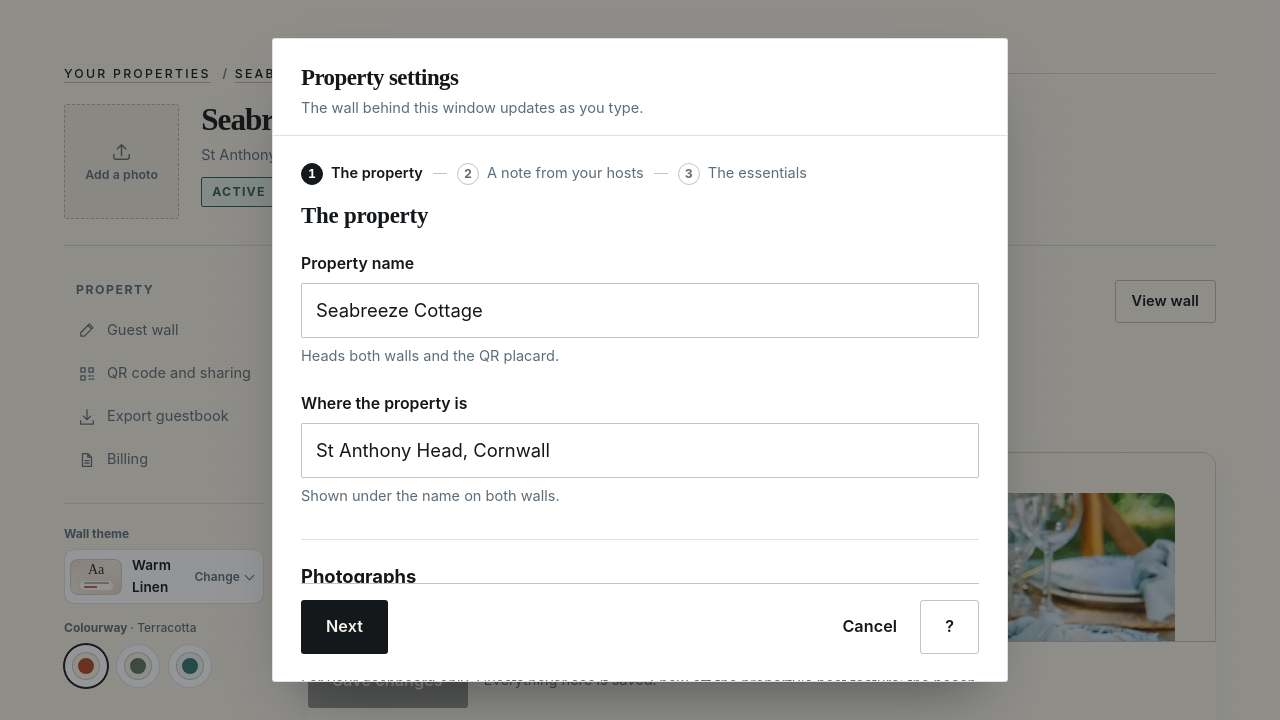
Scenario: the settings of one property › carries everything the wall carries, not just what the property is
Expected: the field labelled "Property name" holds "Seabreeze Cottage", [301,283,979,338]
Click the button "Next" at (344, 628), box [301,601,388,655]
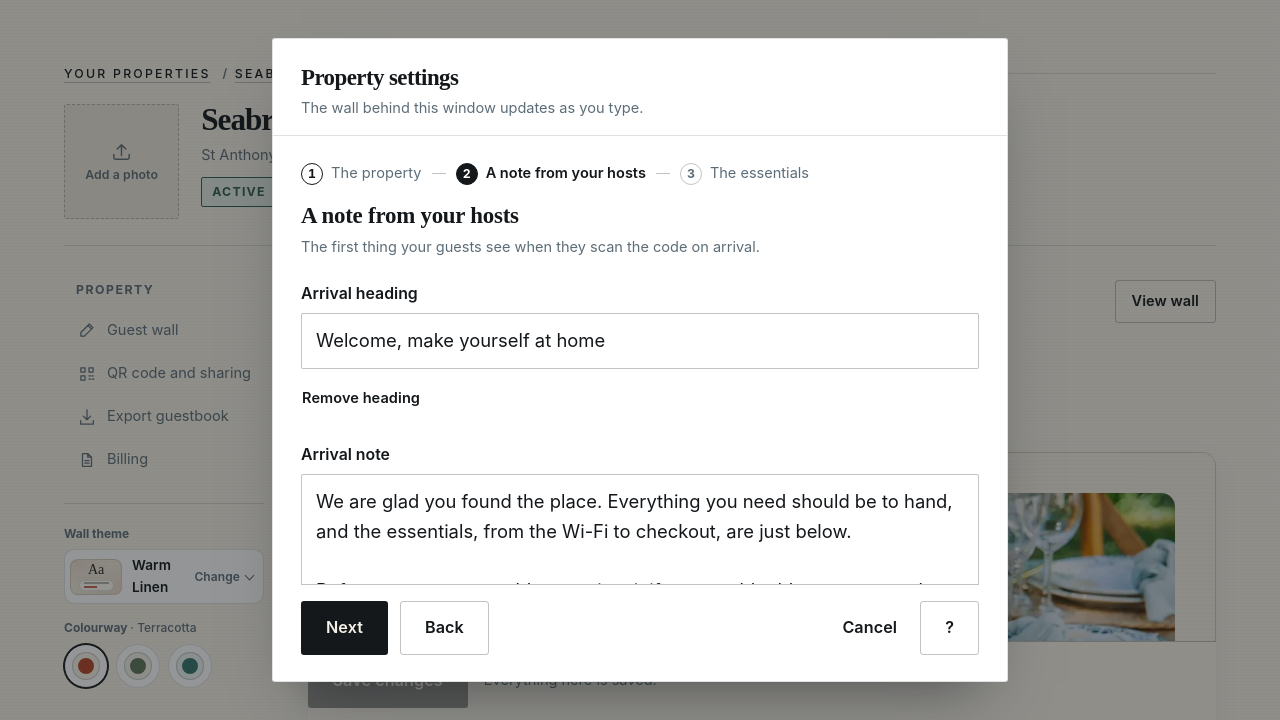
Expected: the field labelled "Arrival heading" is shown, [301,313,979,369]
Expected: the text box labelled "Arrival note" is shown, [301,474,979,677]
Click the button "Next" at (344, 628), box [301,601,388,655]
(page scrolled)
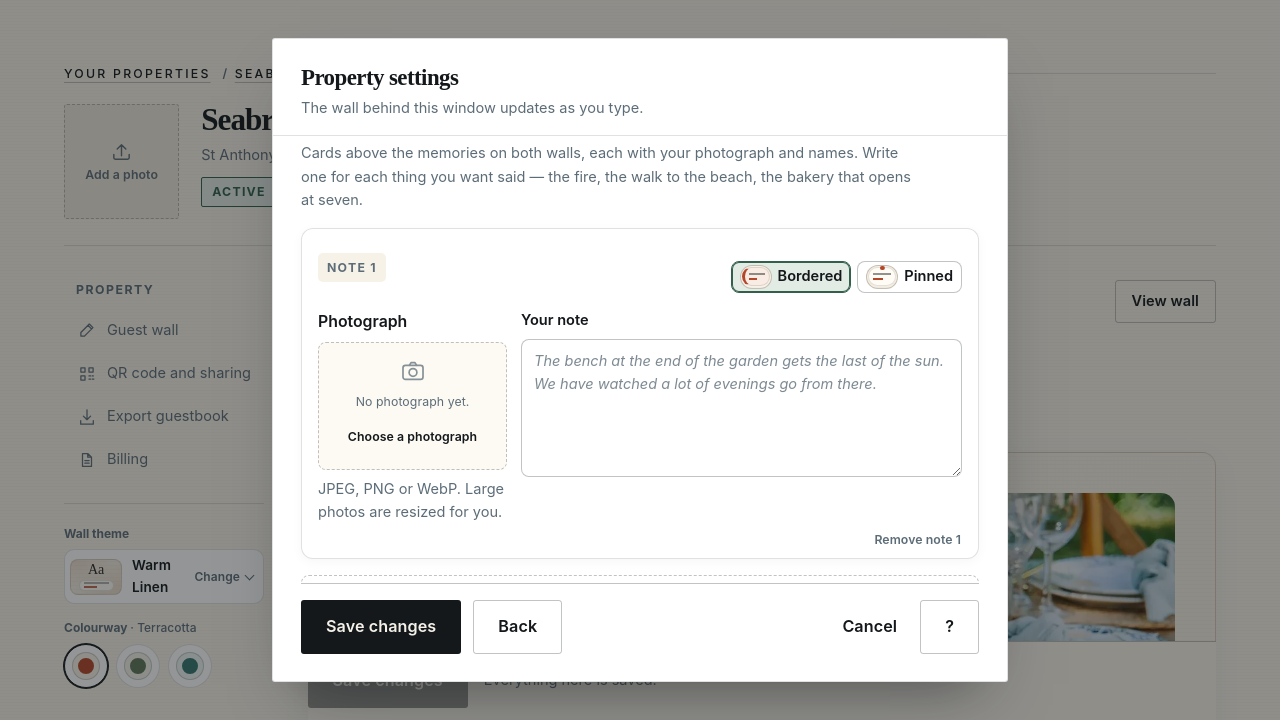
Expected: the text box labelled "Your note" is shown, [521,339,962,477]
